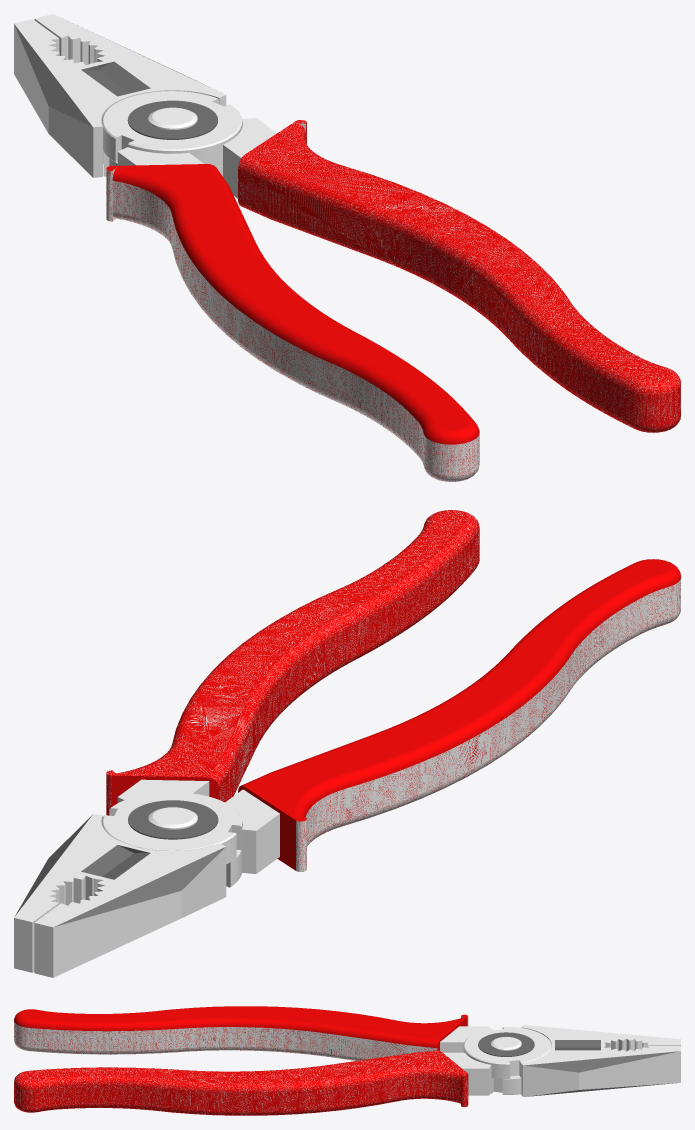
The model's file is plier3.dae.
3 renders of one model, top to bottom at view 1: azimuth 30°, elevation 25°; view 2: azimuth 150°, elevation 25°; view 3: azimuth 270°, elevation 25°, orthographic. The views are drawn at different scales.
Visible parts, largest first — view 1: group_0 (×10), group_1 (×4); view 2: group_0 (×11), group_1 (×5); view 3: group_0 (×13), group_1 (×5).
Boxes of the visible parts, x1,y1,x2,y2 form: group_0 (×10): (34,14,479,481); group_1 (×4): (14,19,680,432); group_0 (×11): (14,559,680,972); group_1 (×5): (34,510,479,977); group_0 (×13): (14,1006,680,1096); group_1 (×5): (14,1025,680,1115).
Bounding box in the file's own units: 2.71 × 9.26 × 0.5717.
